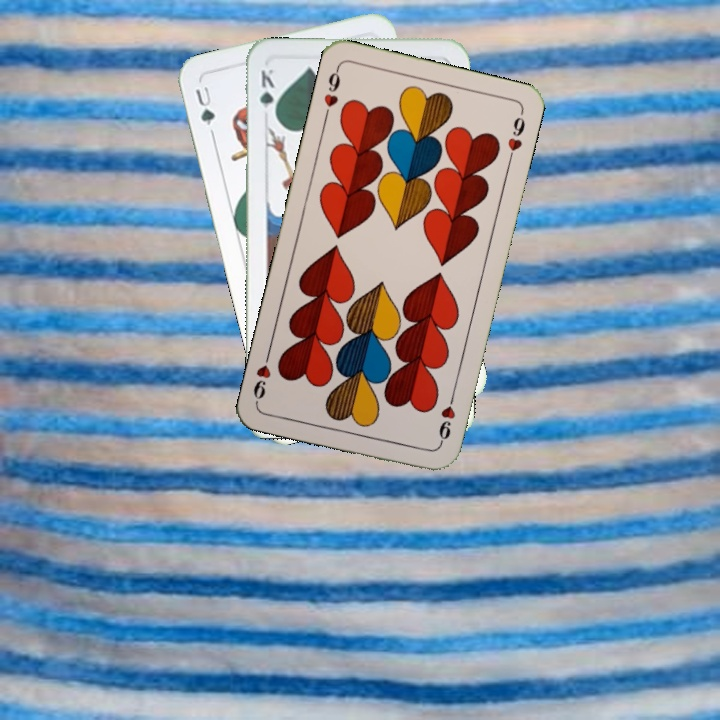GK: (255, 65, 278, 122)
GU: (191, 82, 218, 138)
H9: (434, 390, 458, 448), (320, 63, 343, 122)
